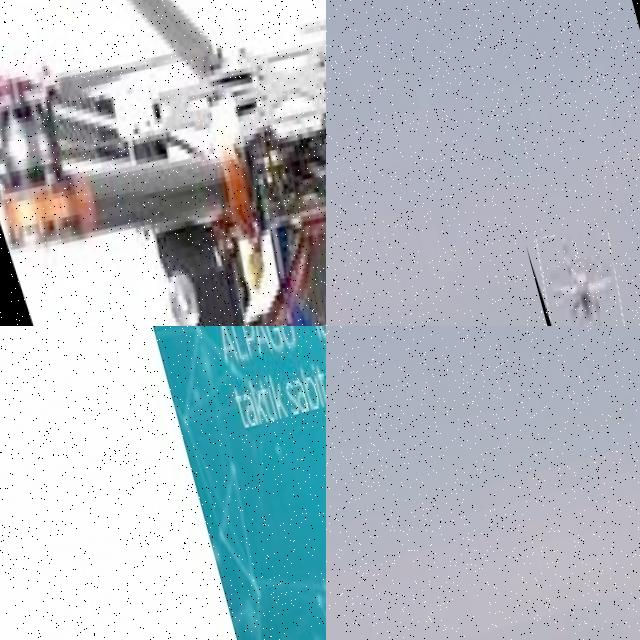drone: (0, 0, 326, 326), (525, 223, 633, 326)
